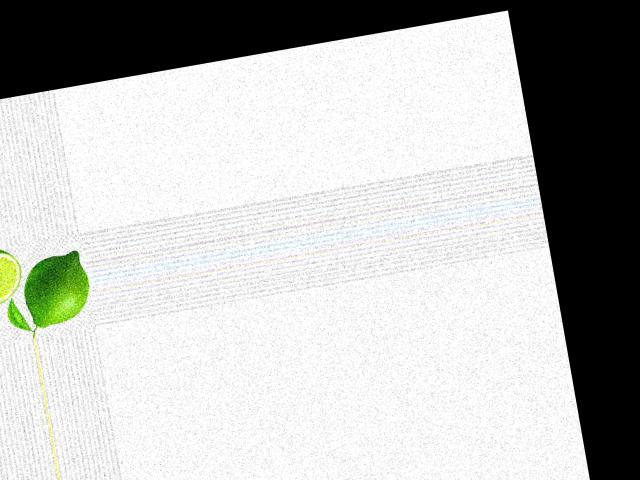lemon: (7, 246, 94, 332)
